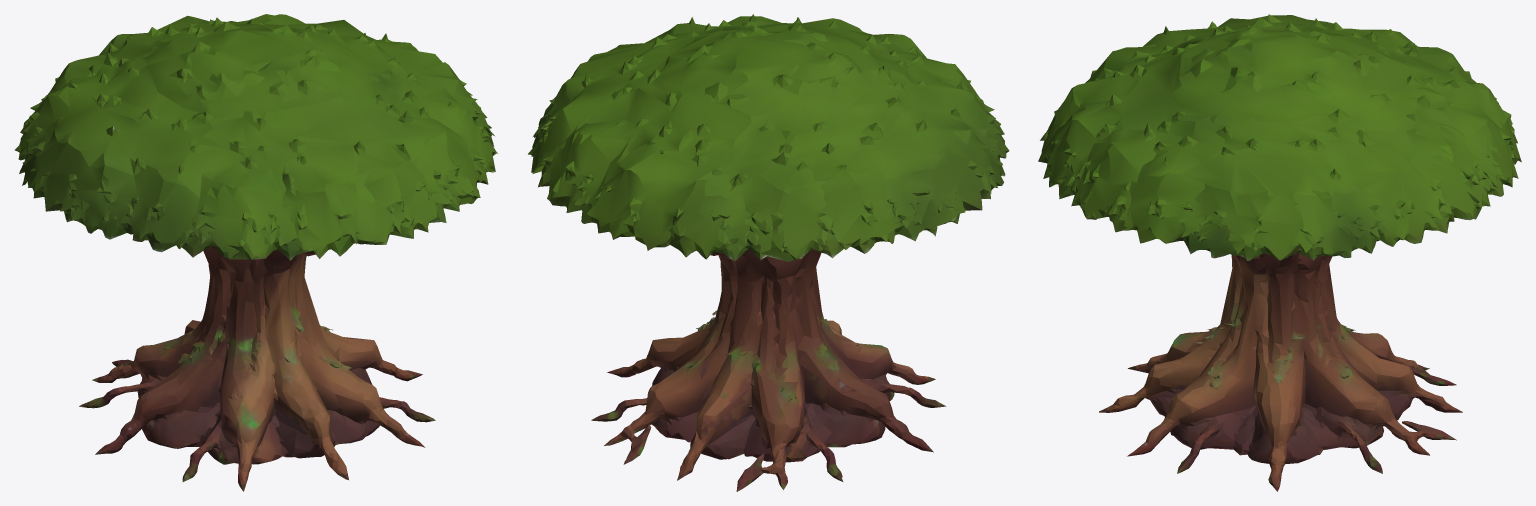
File: oldtree.glb
3 views of the same model, side by side, from view 1: azimuth 30°, elevation 25°; view 2: azimuth 150°, elevation 25°; view 3: azimuth 270°, elevation 25° (orthographic).
Parts seen in each view (by area): view 1: oldtree; view 2: oldtree; view 3: oldtree.
Boxes of the visible parts, box(x1,y1,x2,y2) form: oldtree: box(14, 14, 498, 491); oldtree: box(528, 14, 1009, 491); oldtree: box(1038, 14, 1521, 491).
Bounding box in the file's own units: 1.89 × 1.56 × 1.88.
Materials: 1 (1 with a texture image).
